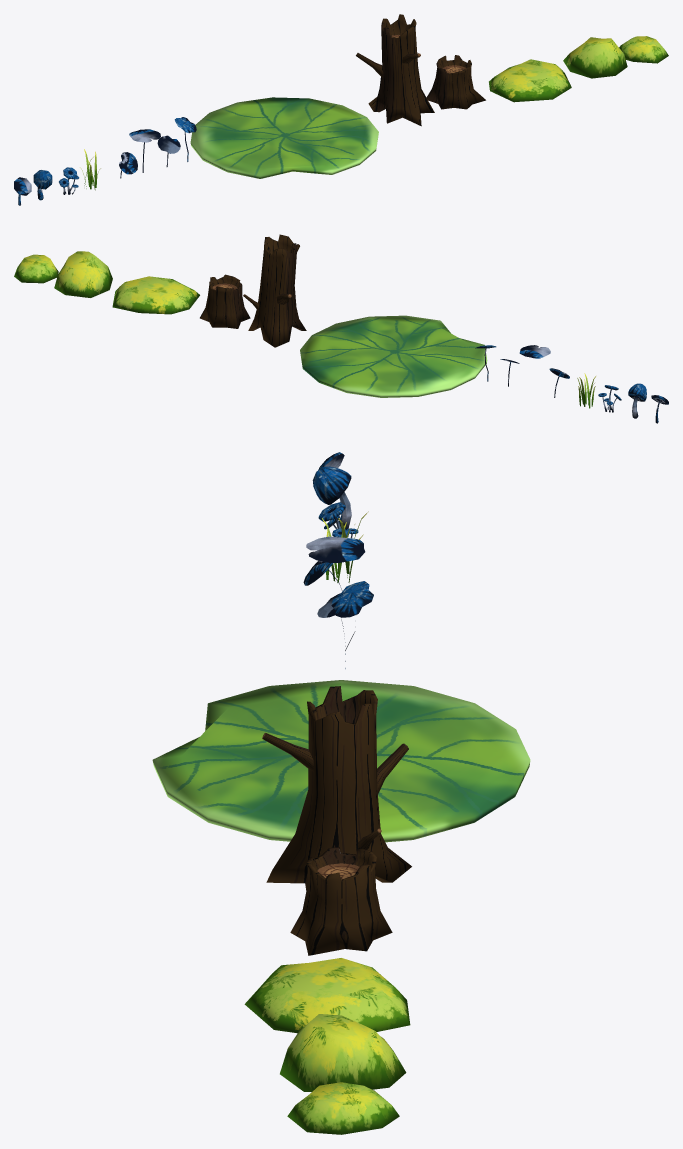
Rendered from WaterLotusPond.fbx.
3 views of the same model, one above another, from view 1: azimuth 30°, elevation 25°; view 2: azimuth 150°, elevation 25°; view 3: azimuth 270°, elevation 25° (orthographic). The views are drawn at different scales.
Parts seen in each view (by area): view 1: LaSung, GocCao, BoiDatTo, GocLun, BoiDatCao, BoiDatNho, LaSen_T, ThickMushroom, LaSen_L, LaSen_R, FamMushroom, Co (+1 smaller); view 2: LaSung, GocCao, BoiDatTo, BoiDatCao, GocLun, BoiDatNho, ThickMushroom, Co, LaSen_T; view 3: LaSung, GocCao, BoiDatTo, GocLun, BoiDatCao, BoiDatNho, ThickMushroom, LaSen_T, LaSen_B.
Part boxes in pixels (box(x1,y1,x2,y2)): LaSung: box(190, 97, 378, 178); GocCao: box(356, 14, 434, 126); BoiDatTo: box(489, 59, 571, 102); GocLun: box(426, 55, 485, 109); BoiDatCao: box(563, 37, 627, 78); BoiDatNho: box(619, 36, 668, 63); LaSen_T: box(129, 129, 160, 172); ThickMushroom: box(33, 170, 52, 200); LaSen_L: box(119, 152, 137, 178); LaSen_R: box(157, 135, 180, 166); FamMushroom: box(59, 167, 79, 194); Co: box(80, 149, 100, 190); LaSung: box(300, 315, 487, 397); GocCao: box(243, 234, 306, 347); BoiDatTo: box(112, 276, 199, 314); BoiDatCao: box(54, 251, 112, 297); GocLun: box(200, 274, 250, 328); BoiDatNho: box(14, 254, 58, 283); ThickMushroom: box(628, 383, 646, 418); Co: box(577, 373, 595, 408); LaSen_T: box(519, 345, 550, 358); LaSung: box(152, 680, 530, 842); GocCao: box(262, 686, 411, 890); BoiDatTo: box(244, 958, 410, 1033); GocLun: box(290, 847, 392, 955); BoiDatCao: box(280, 1014, 406, 1092); BoiDatNho: box(287, 1082, 399, 1134); ThickMushroom: box(312, 466, 351, 529); LaSen_T: box(306, 536, 365, 562); LaSen_B: box(331, 581, 373, 668).
Bounding box in the file's own units: 1787 × 241 × 451.
7 materials, 7 textured.
